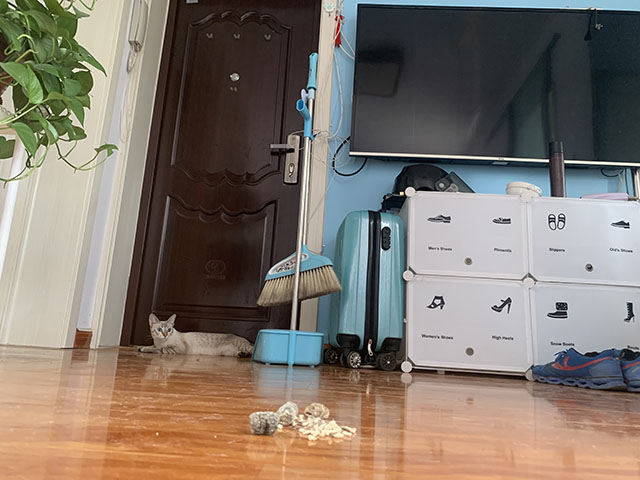cabinet: (396, 184, 640, 378)
feces: (248, 401, 300, 436), (303, 402, 330, 418)
